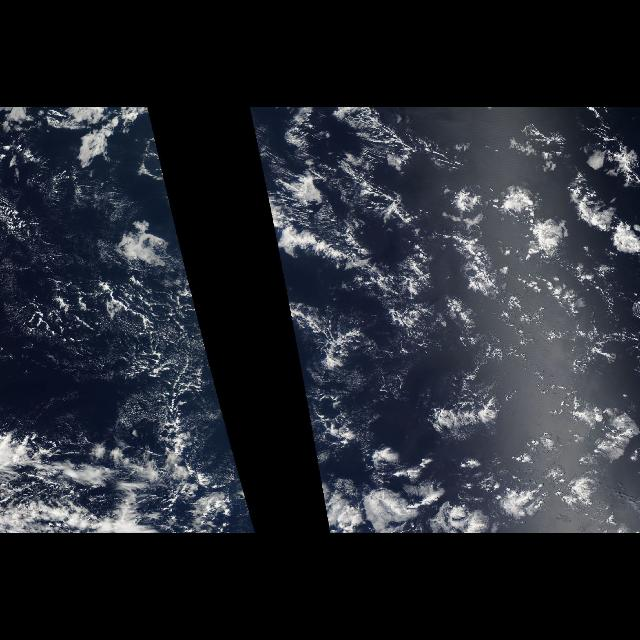Fish: (341, 107, 412, 249)
Flower: (305, 125, 639, 533)
Gravel: (12, 262, 236, 456), (278, 262, 430, 456)
